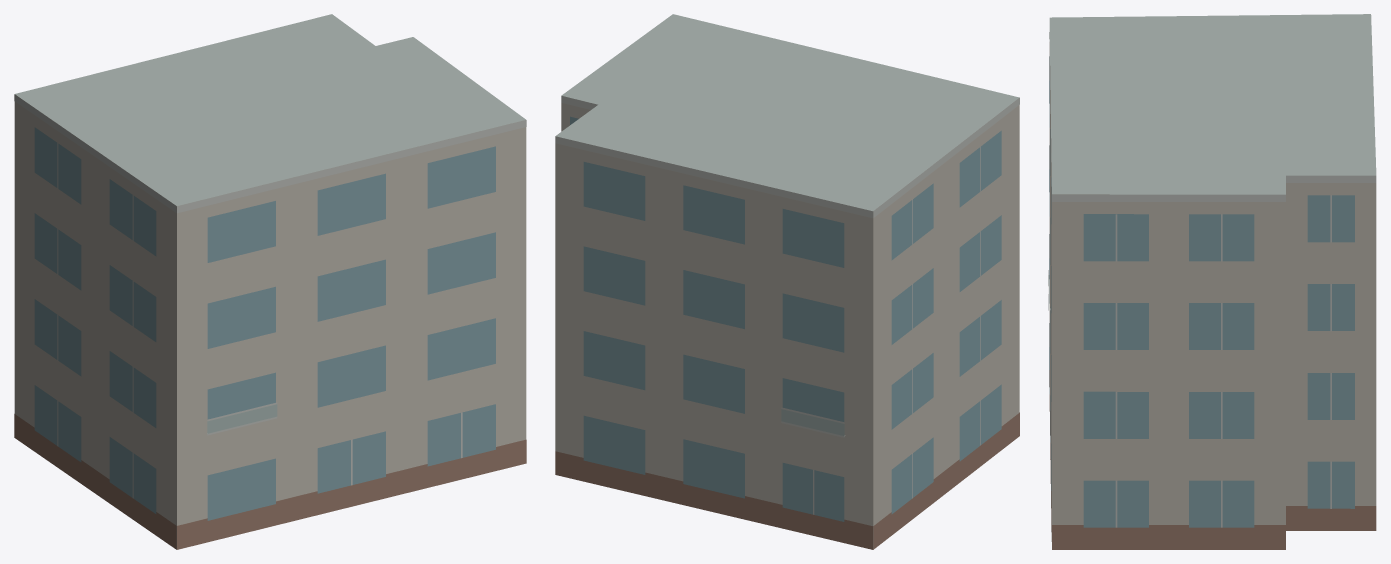
Rendered from survey-upis-32917659.glb.
3 views of the same model, side by side, from view 1: azimuth 30°, elevation 25°; view 2: azimuth 150°, elevation 25°; view 3: azimuth 270°, elevation 25° (orthographic). The views are drawn at different scales.
Visible parts, largest first — view 1: survey-upis-32917659.tmp; view 2: survey-upis-32917659.tmp; view 3: survey-upis-32917659.tmp.
Part boxes in pixels (x1=…): survey-upis-32917659.tmp: x1=14, y1=14, x2=526, y2=549; survey-upis-32917659.tmp: x1=555, y1=14, x2=1019, y2=549; survey-upis-32917659.tmp: x1=1048, y1=14, x2=1376, y2=549.
Size of the model in its own units: 12.76 by 11.7 by 9.8.
